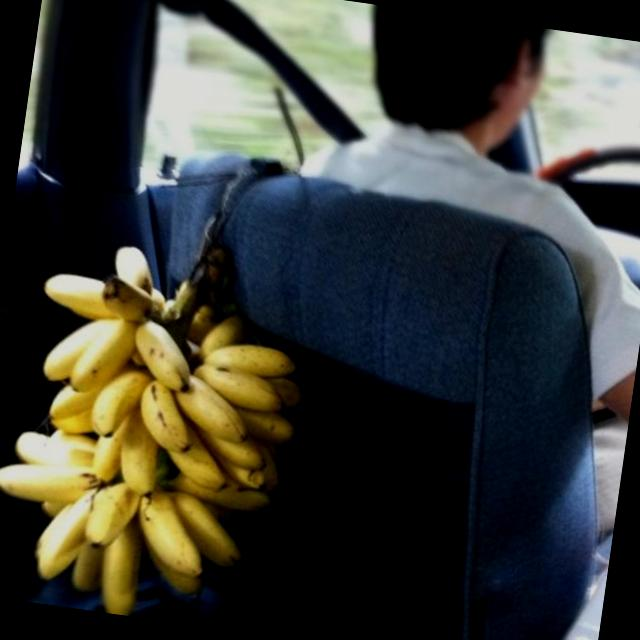Banana: (0, 232, 329, 607)
